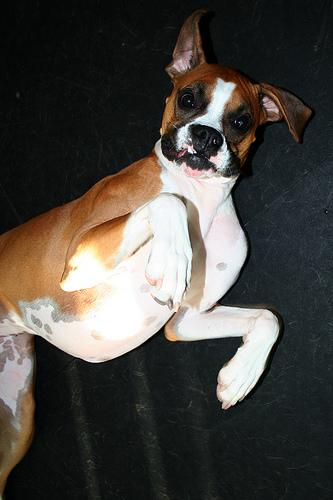dog-boxer: (153, 7, 311, 181)
